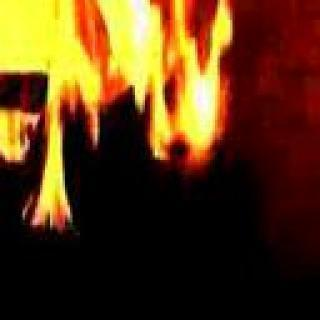fire: (0, 0, 202, 150)
